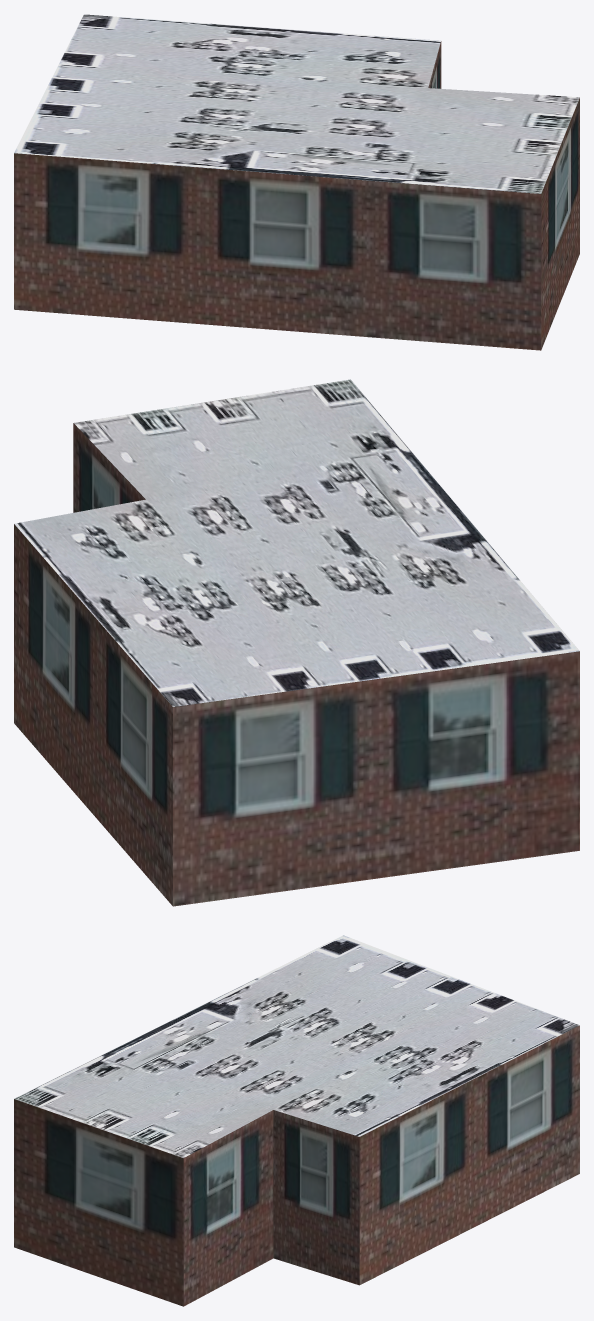
File: ResTex__674.fbx
3 views of the same model, one above another, from view 1: azimuth 30°, elevation 25°; view 2: azimuth 150°, elevation 25°; view 3: azimuth 270°, elevation 25° (orthographic). The views are drawn at different scales.
Parts seen in each view (by area): view 1: CityEngineMaterial_14_m, CityEngineMaterial_m; view 2: CityEngineMaterial_14_m, CityEngineMaterial_m; view 3: CityEngineMaterial_14_m, CityEngineMaterial_m.
Part boxes in pixels (bbox=[...]): CityEngineMaterial_14_m: bbox=[14, 41, 579, 350]; CityEngineMaterial_m: bbox=[14, 14, 579, 193]; CityEngineMaterial_14_m: bbox=[14, 423, 579, 906]; CityEngineMaterial_m: bbox=[14, 379, 579, 706]; CityEngineMaterial_14_m: bbox=[14, 1025, 579, 1306]; CityEngineMaterial_m: bbox=[14, 935, 579, 1157].
Size of the model in its own units: 9.66 by 3 by 10.36.
Materials: 2 (2 with a texture image).
